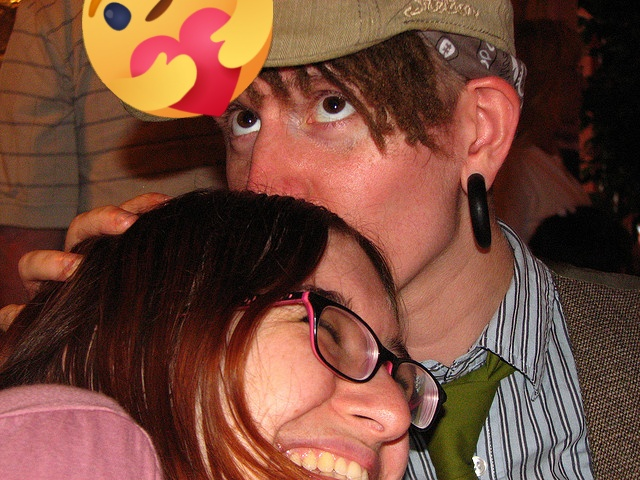care: (82, 0, 273, 118)
